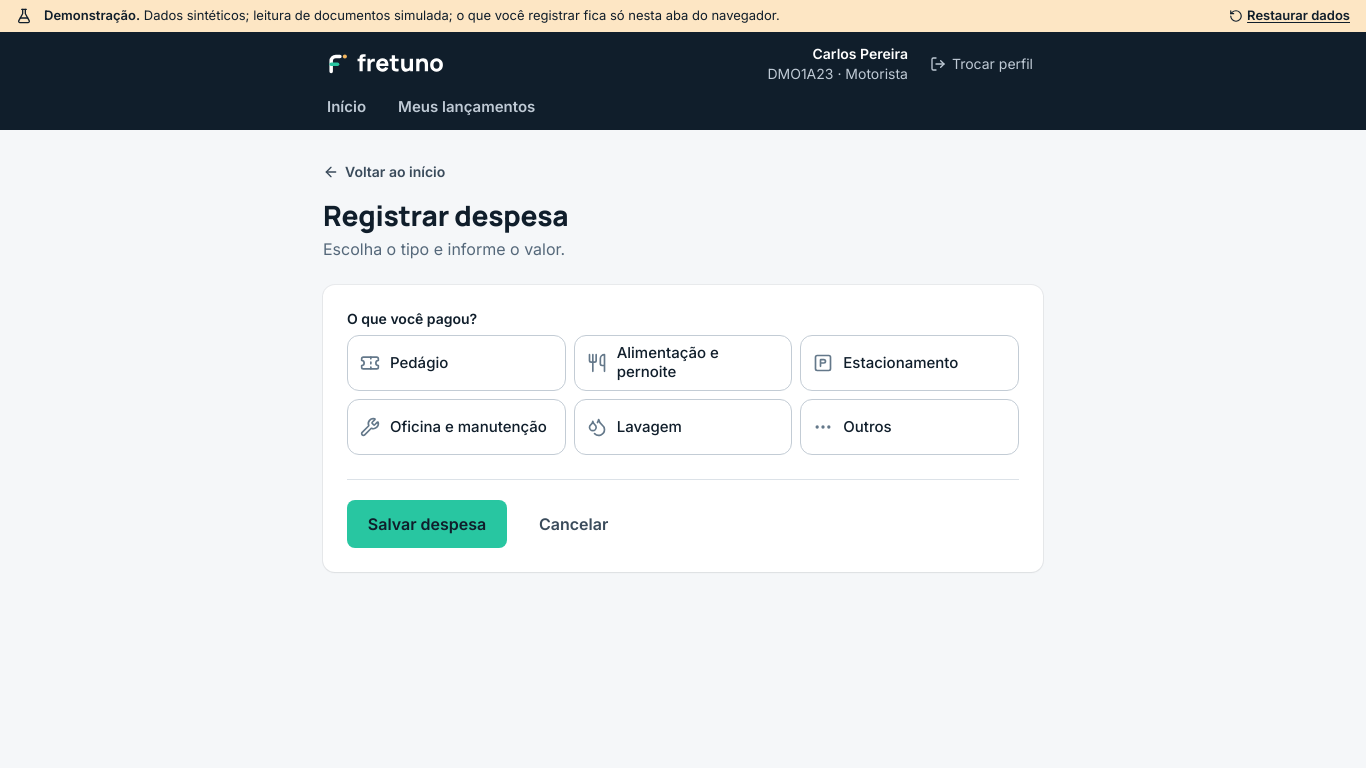
Scenario: Motorista › oficina pede descrição do serviço
The image size is (1366, 768).
Click the radio button labelled "Oficina e manutenção".
click(456, 427)  # box [347,399,566,455]
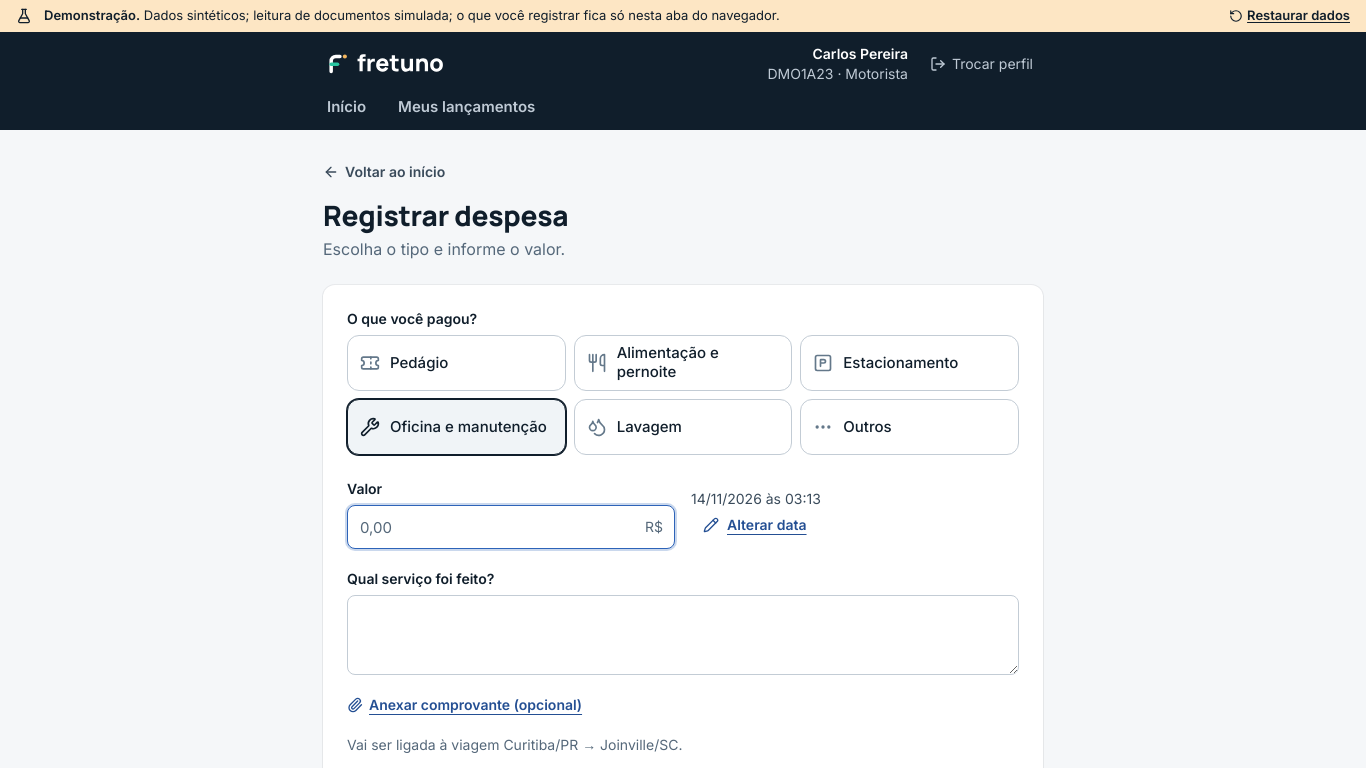
Type "120" into the field labelled "Valor".
click(511, 527); type("120")  # box [347,505,675,549]
(page scrolled)
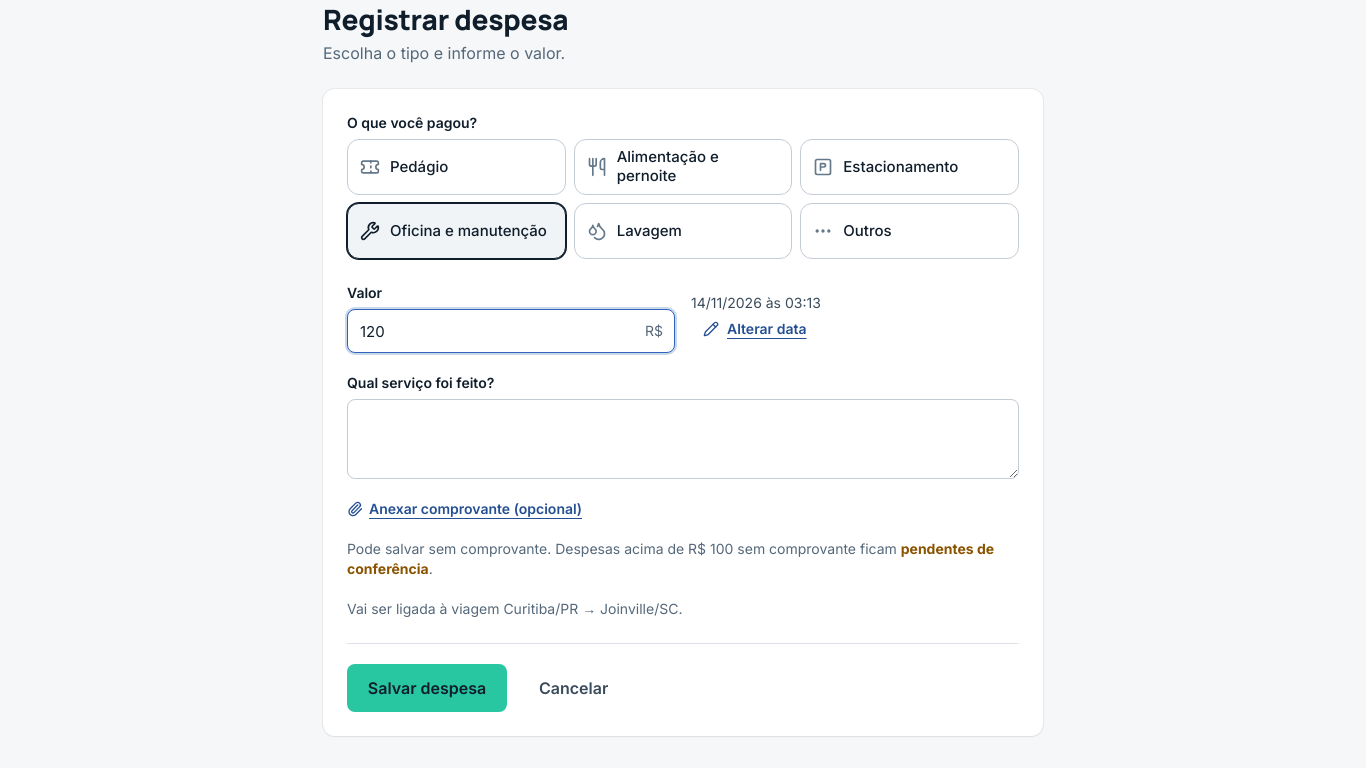
Click the button "Salvar despesa".
click(427, 688)  # box [347,664,507,712]
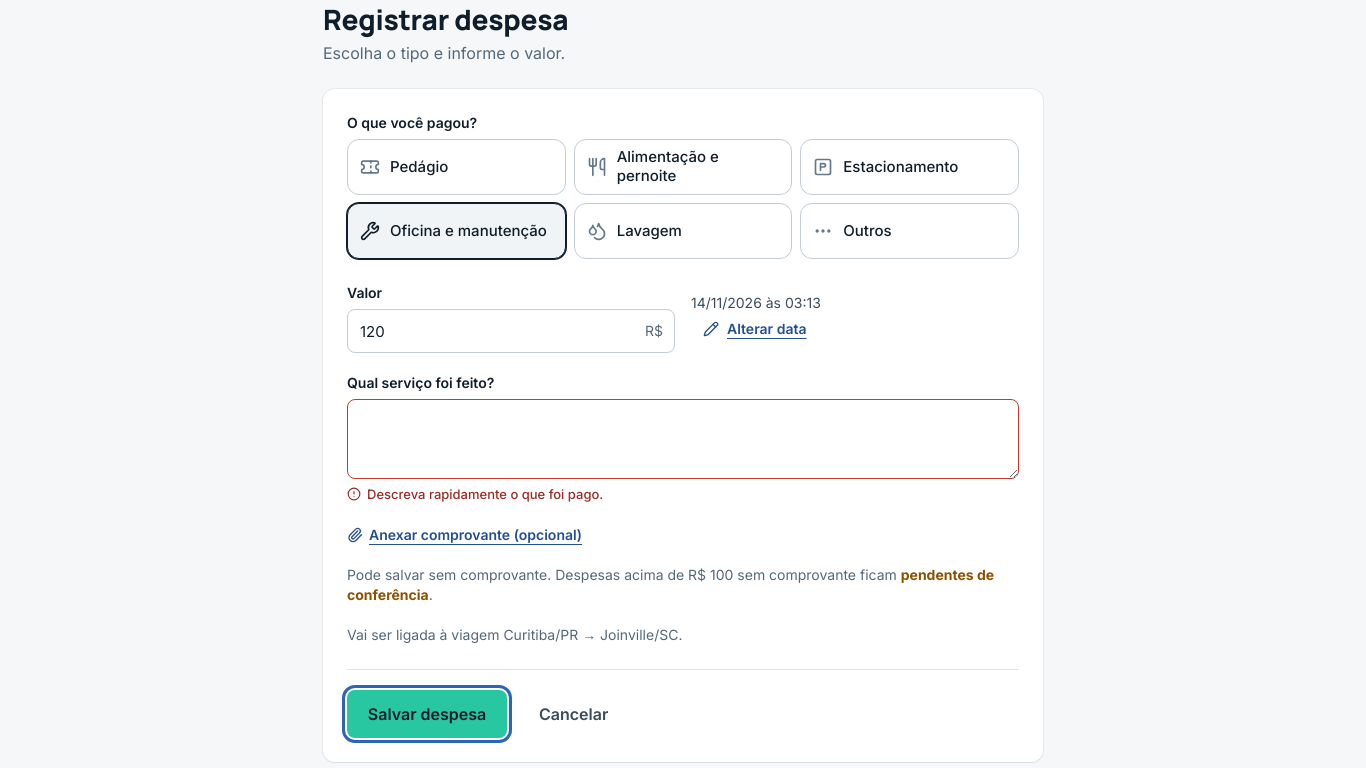
Expected: the text "Descreva rapidamente o que foi pago." is shown, [347,486,603,502]
